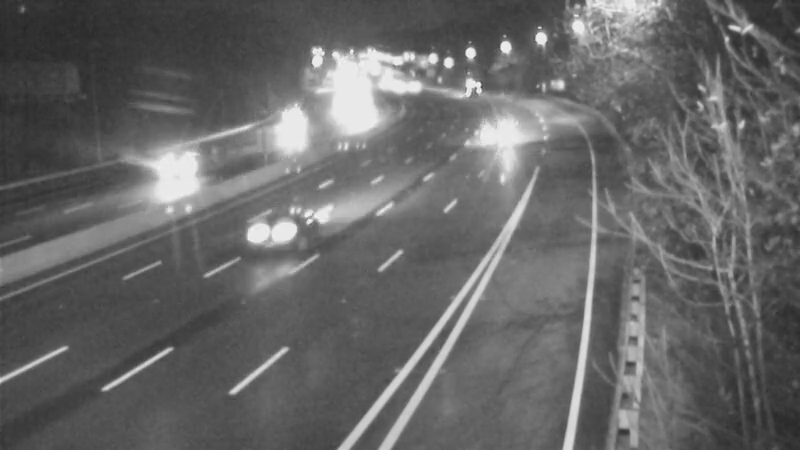vehicle: (219, 188, 299, 268), (130, 129, 210, 209), (444, 60, 494, 110), (472, 112, 522, 162), (258, 116, 308, 166)
